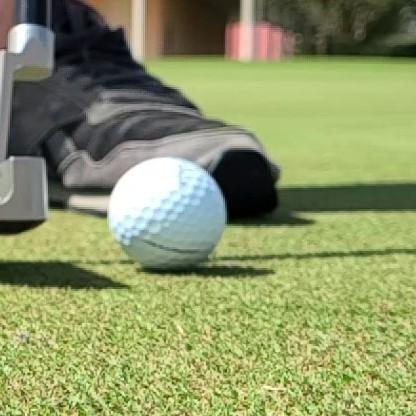golfball: (108, 158, 226, 269)
